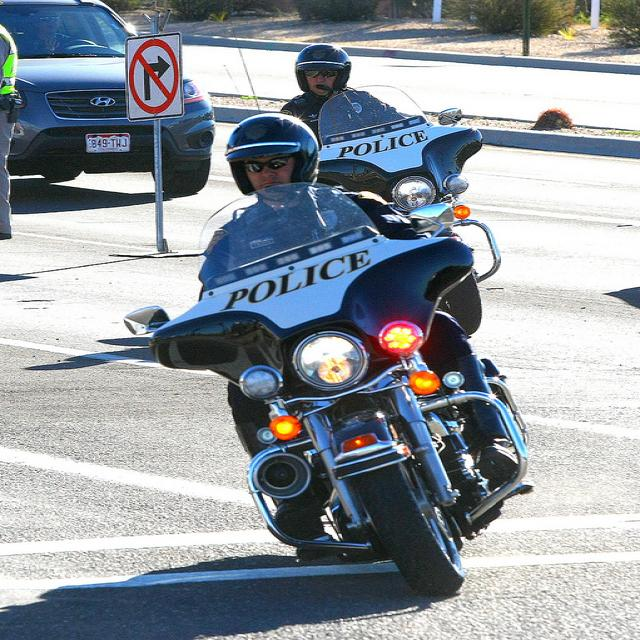motor: (124, 190, 530, 599), (320, 86, 517, 334)
